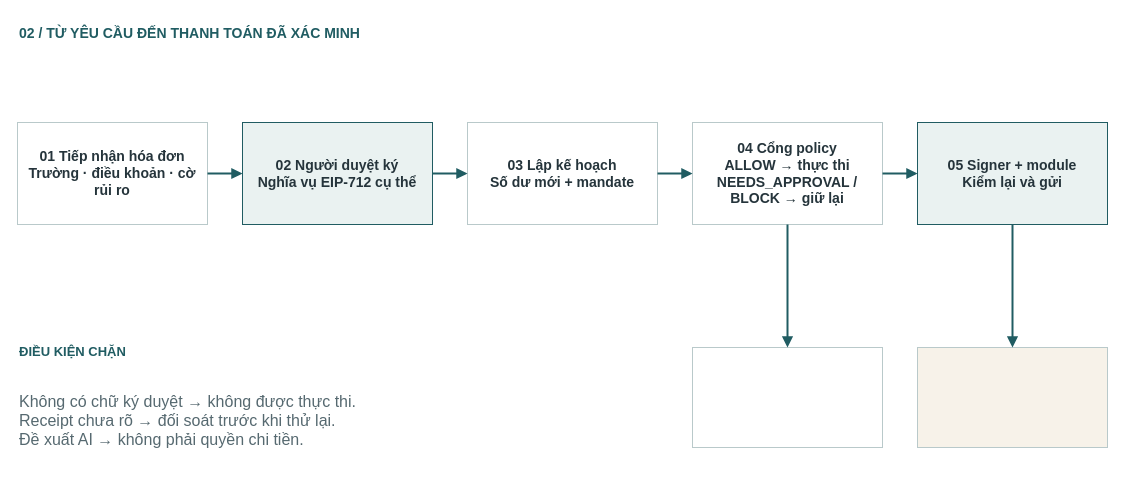
This 1125x484 diagram has some shape labels left out. The shapes that lost their labels are listed below. From the top down, each one's box as (x1, y1, x2, y2) in pixels, then its label:
(692, 346, 882, 448): Giữ lại hoặc chặn Không gửi giao dịch
(916, 346, 1108, 448): 06 Receipt + đối soát Kiểm tác động · bằng chứng
